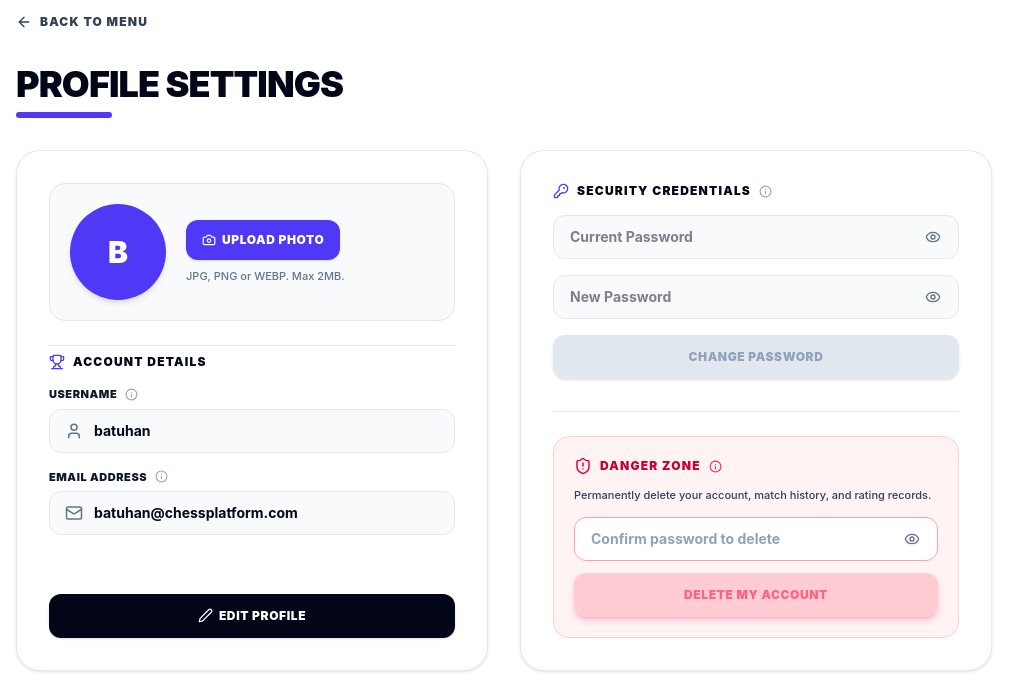
Test case: ProfileDashboard Component › cancels edit mode and restores original profile data when Cancel is clicked
Expected: the field showing "batuhan" is shown, [49,408,455,452]
Click the button "Edit Profile" at {"x": 252, "y": 616}, box [49,594,455,638]
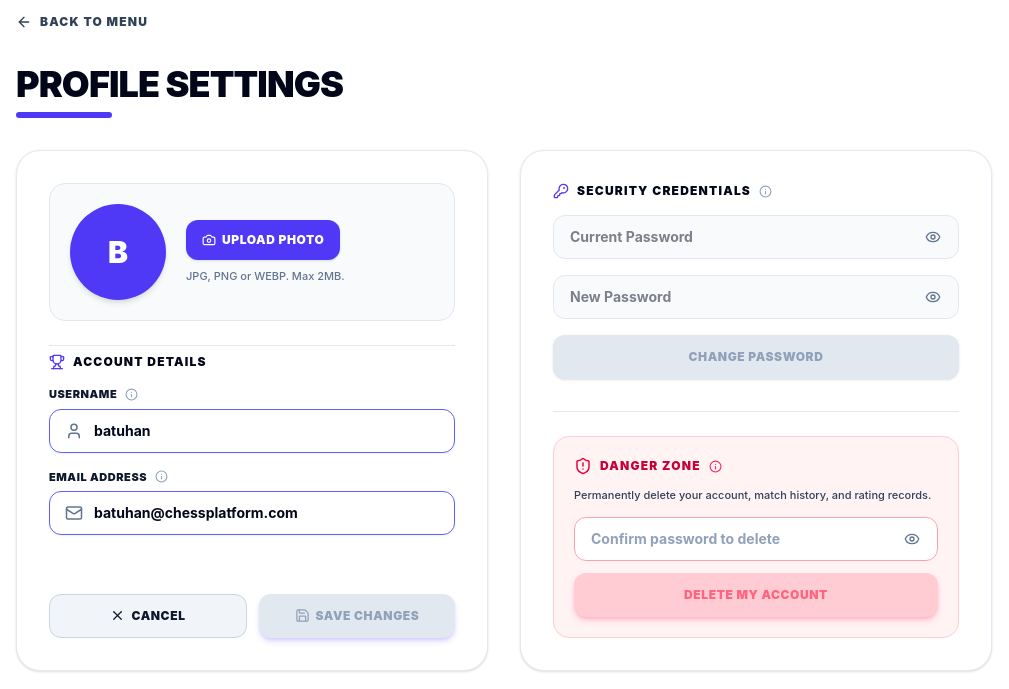
Replace the text in the field showing "batuhan" with "modifiedname" at {"x": 252, "y": 430}, box [49,408,455,452]
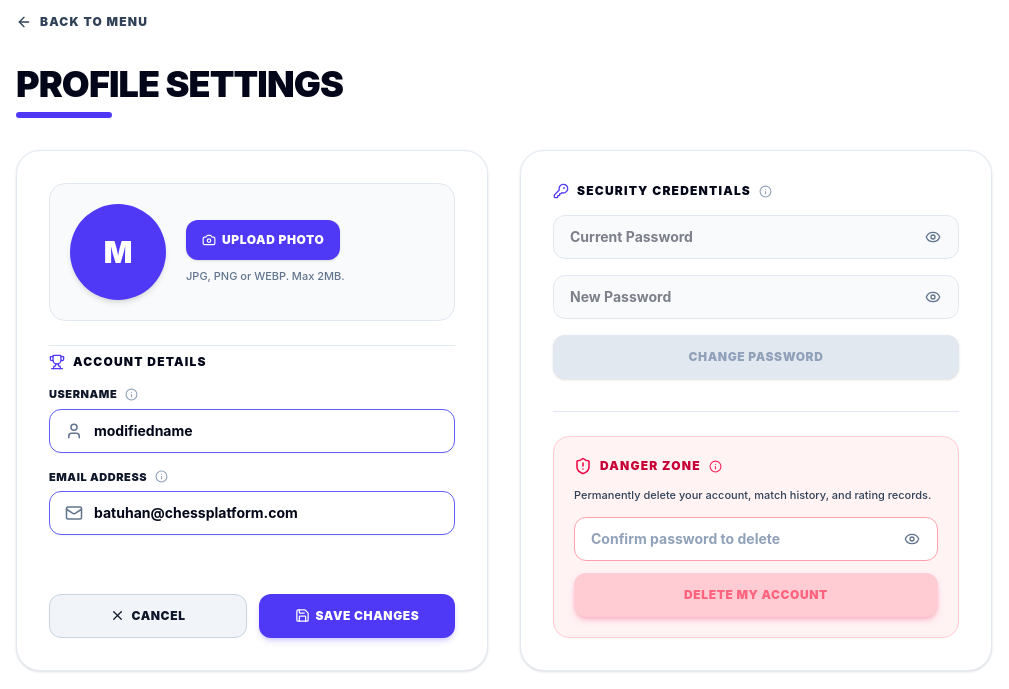
Click the button "Cancel" at {"x": 148, "y": 616}, box [49,594,247,638]
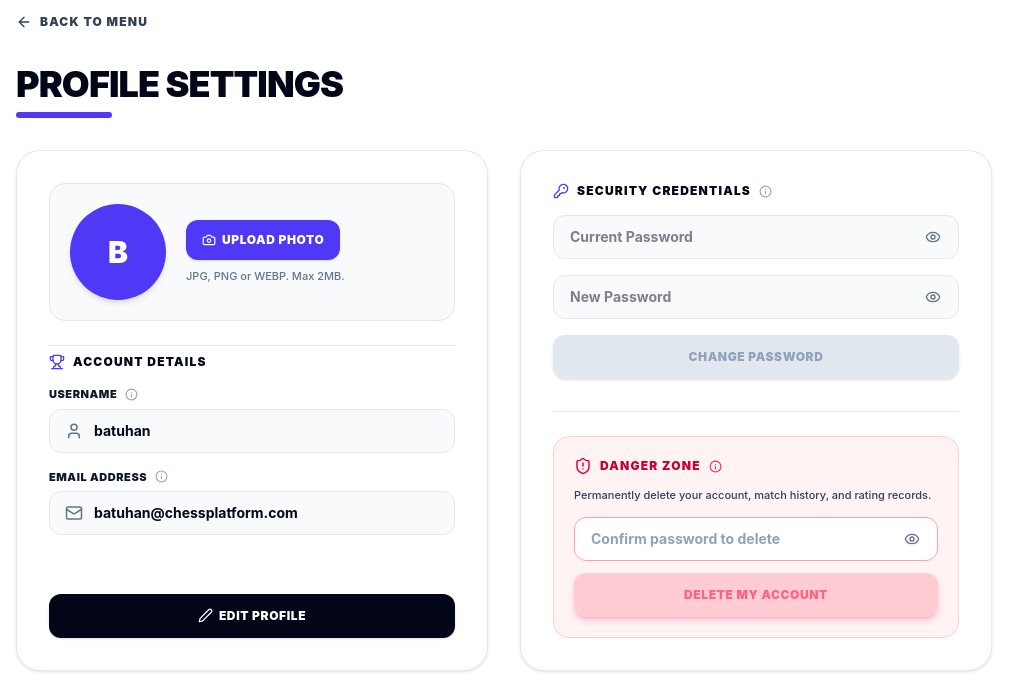
Now the field showing "batuhan" is shown, box [49,408,455,452]
